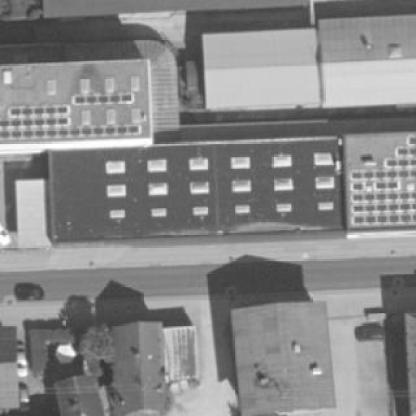solar-pv-panel: (0, 107, 139, 137), (352, 1, 416, 44), (352, 136, 416, 179), (352, 193, 416, 223), (75, 96, 132, 103), (376, 183, 398, 190), (354, 183, 363, 190)
